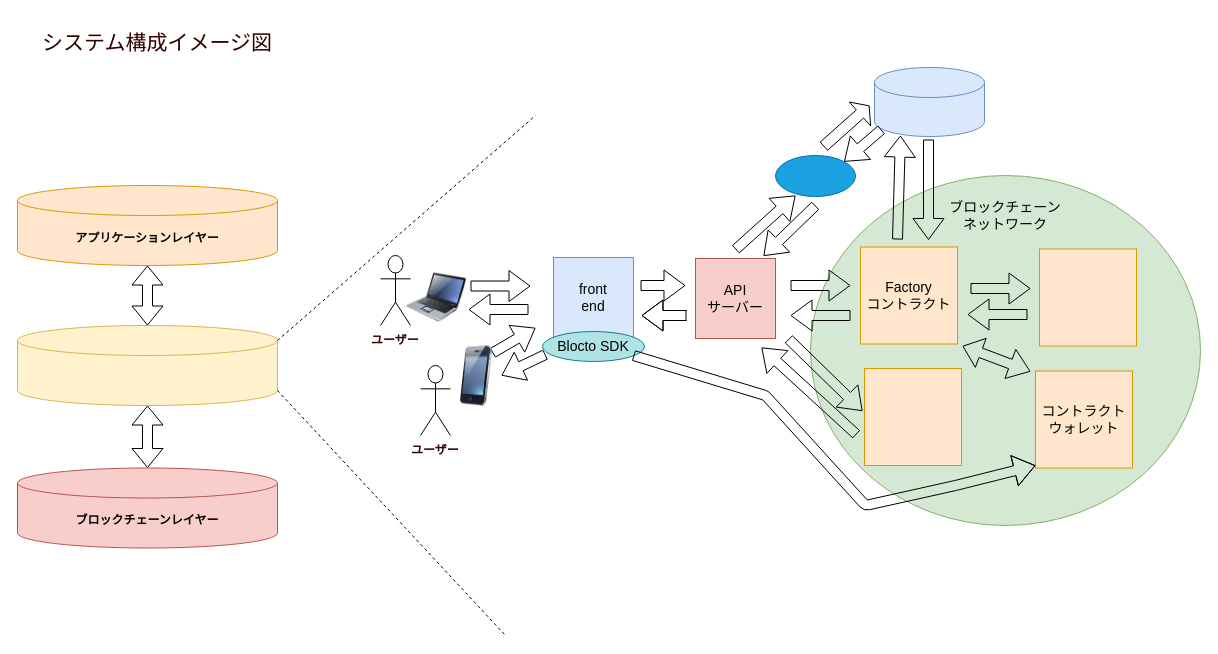
Some shapes in this 1218 by 654 pixel diagram are drawn without their labels. Each missing label, with the box of its shape:
ION (DID 生成): (774, 154, 856, 196)
MultiSigWallet コントラクト: (1038, 248, 1136, 346)
MyToken コントラクト: (864, 368, 962, 466)
インフラレイヤー: (16, 324, 278, 406)
分散型インフラ (DIDと紐づけ): (874, 66, 984, 136)
